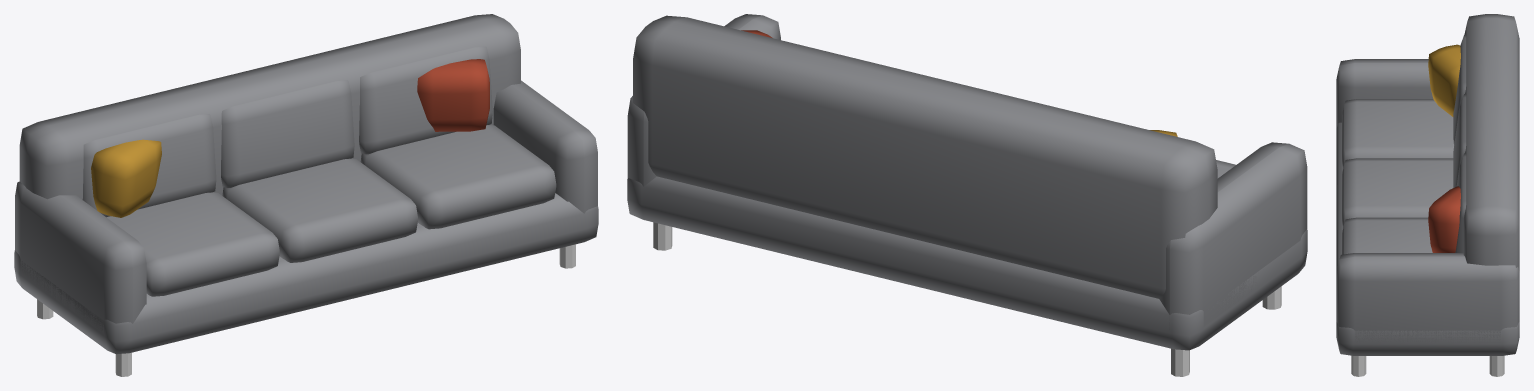
File: sofa3-grey.glb
The picture shows the model from 3 angles, left to right: view 1: azimuth 30°, elevation 25°; view 2: azimuth 150°, elevation 25°; view 3: azimuth 270°, elevation 25°; orthographic projection. The views are drawn at different scales.
Visible parts, largest first — view 1: sofa3-grey; view 2: sofa3-grey; view 3: sofa3-grey.
Boxes of the visible parts, box(x1,y1,x2,y2) form: sofa3-grey: box(14, 14, 598, 376); sofa3-grey: box(627, 14, 1307, 376); sofa3-grey: box(1336, 14, 1519, 376).
Bounding box in the file's own units: 3.05 × 1.13 × 1.13.
